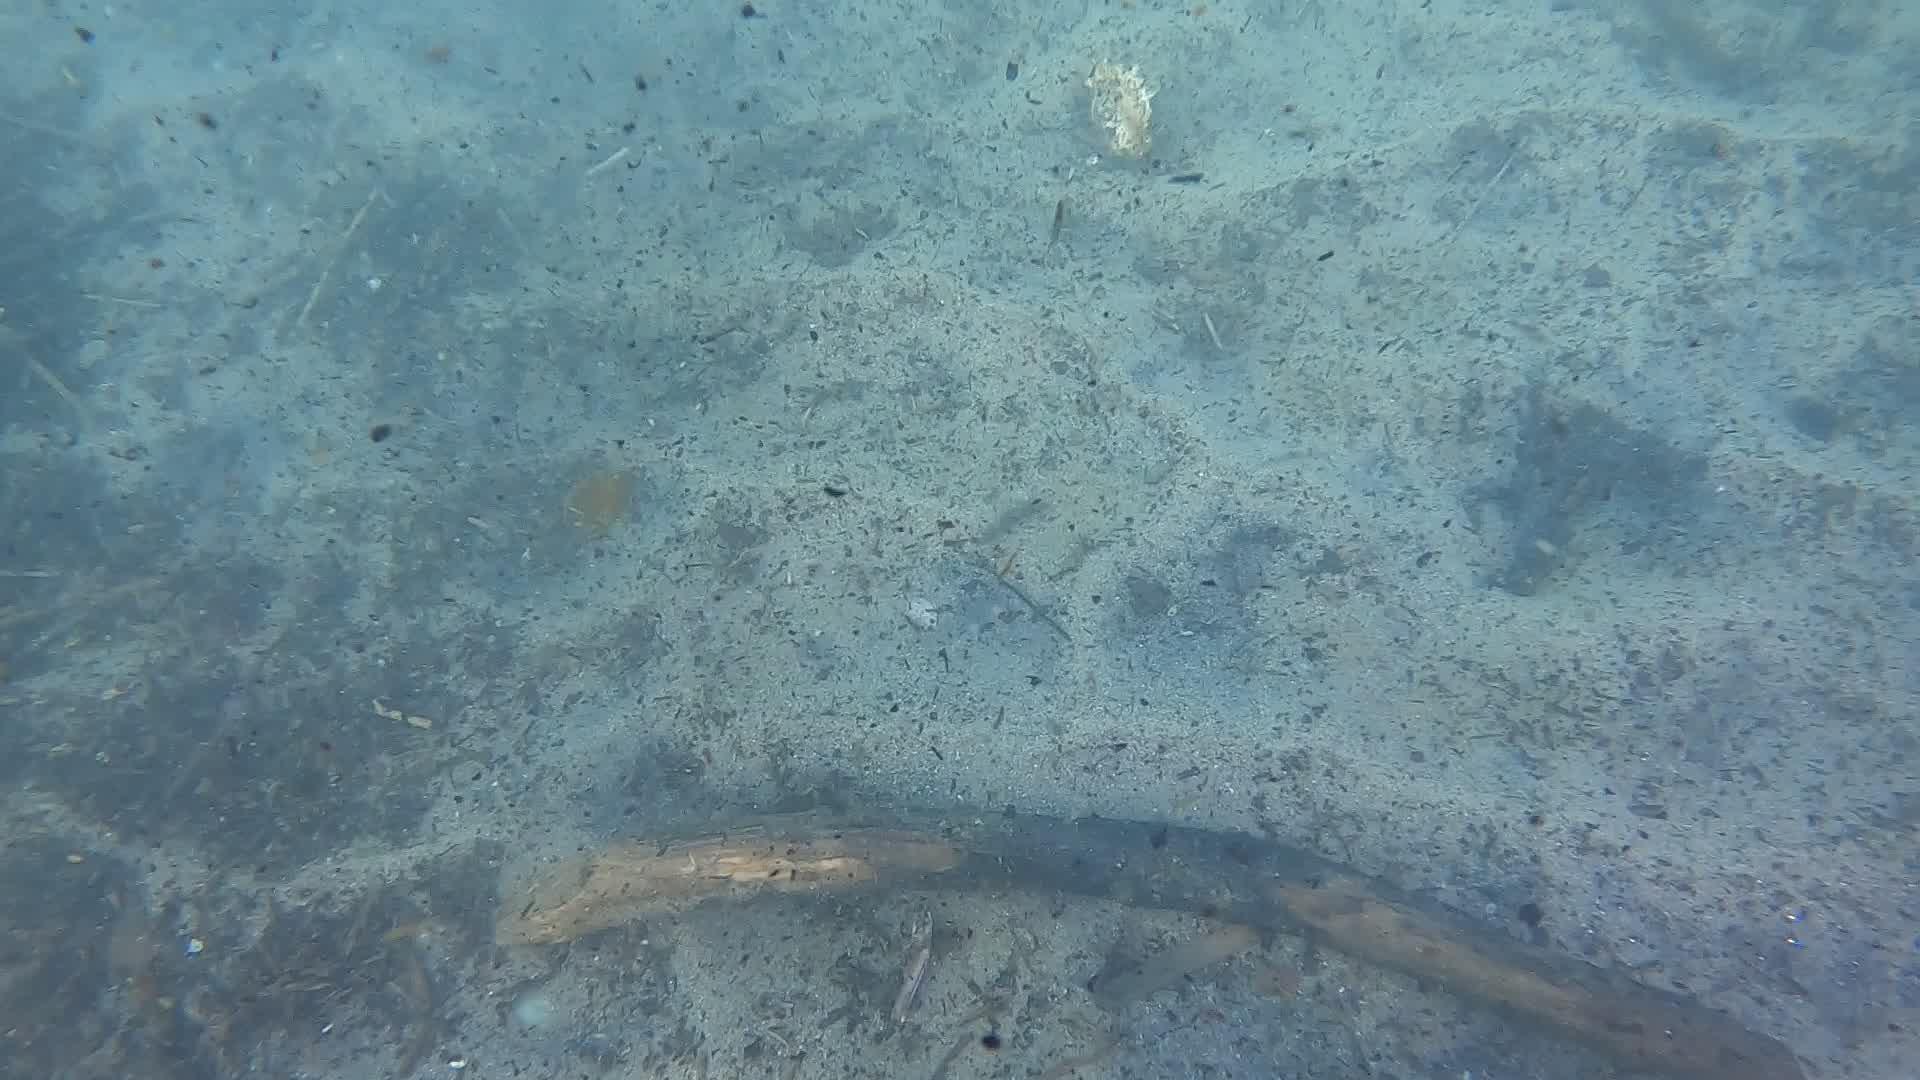wood: (492, 808, 1846, 1080)
